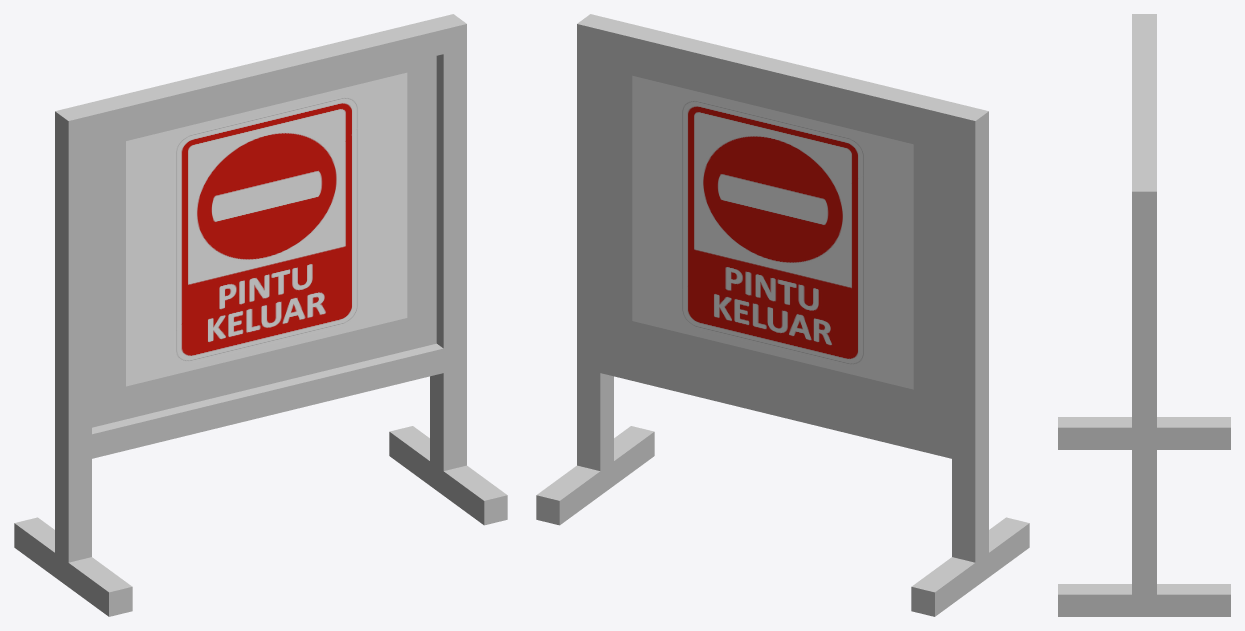
The model's file is Keluar.fbx.
3 renders of one model, left to right at view 1: azimuth 30°, elevation 25°; view 2: azimuth 150°, elevation 25°; view 3: azimuth 270°, elevation 25°, orthographic. The views are drawn at different scales.
Visible parts, largest first — view 1: _(Loose Entity), Plane; view 2: _(Loose Entity), Plane.001; view 3: _(Loose Entity).
Part boxes in pixels (x1=…): _(Loose Entity): x1=14, y1=14, x2=507, y2=616; Plane: x1=126, y1=72, x2=407, y2=386; _(Loose Entity): x1=536, y1=14, x2=1029, y2=616; Plane.001: x1=632, y1=75, x2=913, y2=389; _(Loose Entity): x1=1058, y1=14, x2=1230, y2=616.
Size of the model in its own units: 17 by 19 by 7.
